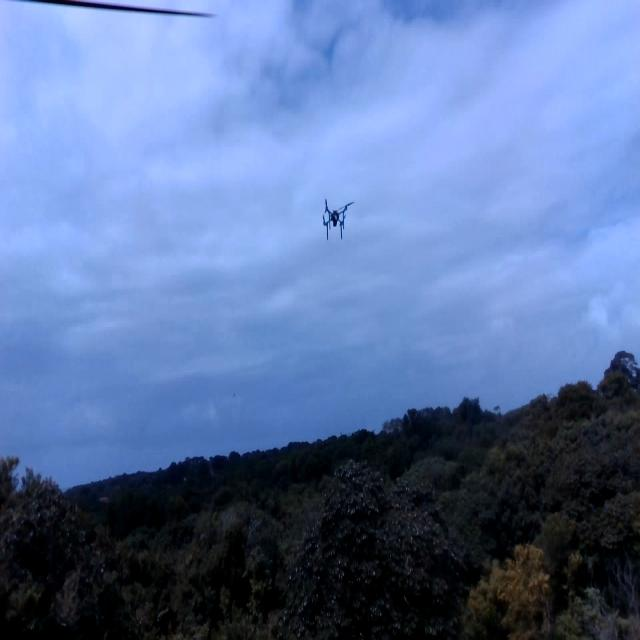-uav-: (316, 192, 358, 246)
